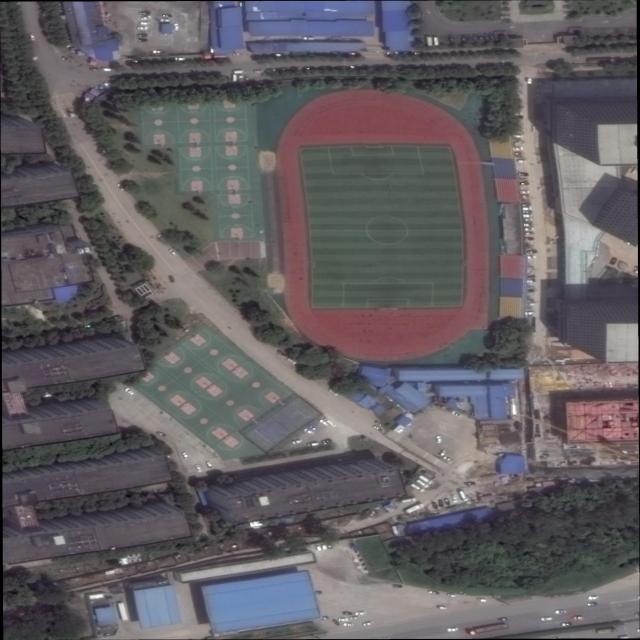large-vehicle: (467, 623, 509, 635)
small-vehicle: (405, 503, 426, 514), (418, 474, 433, 485), (410, 483, 425, 493), (415, 478, 429, 488), (458, 490, 469, 502), (124, 387, 135, 396), (318, 419, 329, 428), (325, 418, 335, 427), (401, 498, 416, 504), (193, 464, 202, 473), (373, 425, 383, 433), (167, 248, 177, 256), (451, 411, 462, 418), (438, 449, 447, 457), (560, 621, 572, 627), (293, 438, 303, 445), (304, 428, 314, 435), (330, 618, 340, 625), (362, 620, 373, 626), (428, 589, 439, 595), (303, 36, 316, 41), (554, 609, 567, 614), (585, 602, 598, 607), (181, 452, 189, 460), (397, 427, 406, 434), (307, 441, 319, 446), (447, 627, 459, 632), (518, 172, 530, 177), (343, 622, 353, 628), (437, 605, 449, 610), (168, 275, 175, 283), (205, 461, 213, 468), (437, 500, 444, 508), (157, 431, 166, 437), (444, 456, 453, 462), (141, 15, 150, 21), (587, 596, 600, 600), (573, 615, 583, 620), (431, 501, 437, 509), (310, 425, 318, 431), (436, 436, 442, 444), (540, 617, 552, 621), (161, 18, 170, 23), (478, 598, 487, 603), (102, 67, 111, 72), (526, 279, 537, 283), (175, 57, 186, 61), (444, 498, 450, 505), (452, 495, 457, 503), (137, 38, 147, 42), (137, 33, 147, 37), (174, 23, 179, 31), (523, 210, 533, 214), (523, 207, 533, 211), (522, 203, 532, 207), (520, 190, 530, 194), (514, 146, 524, 150), (472, 34, 477, 42), (392, 584, 402, 588), (354, 611, 364, 615), (339, 617, 349, 621), (137, 26, 146, 30), (446, 593, 455, 597), (30, 34, 35, 41), (526, 256, 537, 259), (516, 160, 527, 163), (497, 618, 508, 621), (449, 34, 453, 42), (467, 34, 471, 42), (344, 610, 352, 614), (524, 224, 534, 227), (525, 312, 535, 315), (461, 34, 465, 41), (478, 34, 482, 41), (484, 33, 488, 40), (527, 250, 536, 253), (525, 231, 534, 234), (525, 228, 534, 231), (523, 218, 532, 221), (523, 214, 532, 217), (519, 182, 528, 185), (514, 135, 523, 138), (526, 303, 535, 306), (141, 22, 149, 25), (162, 14, 170, 17), (489, 33, 493, 39), (350, 616, 357, 619), (153, 51, 163, 53), (525, 238, 534, 240)
